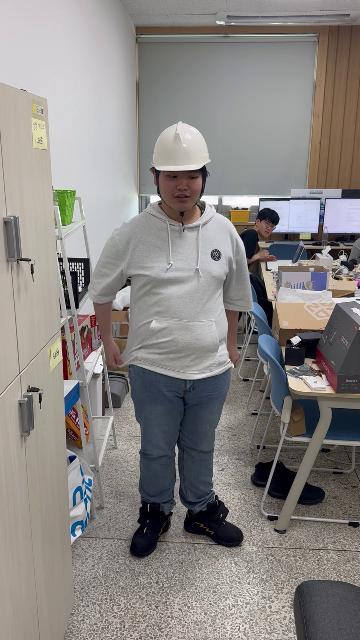helmet_worn: (150, 121, 213, 171)
shoe_not_worn: (254, 459, 323, 502), (250, 458, 283, 487)
shoe_worn: (183, 496, 243, 547), (129, 502, 174, 558)
vest_not_worn: (114, 211, 236, 378)
